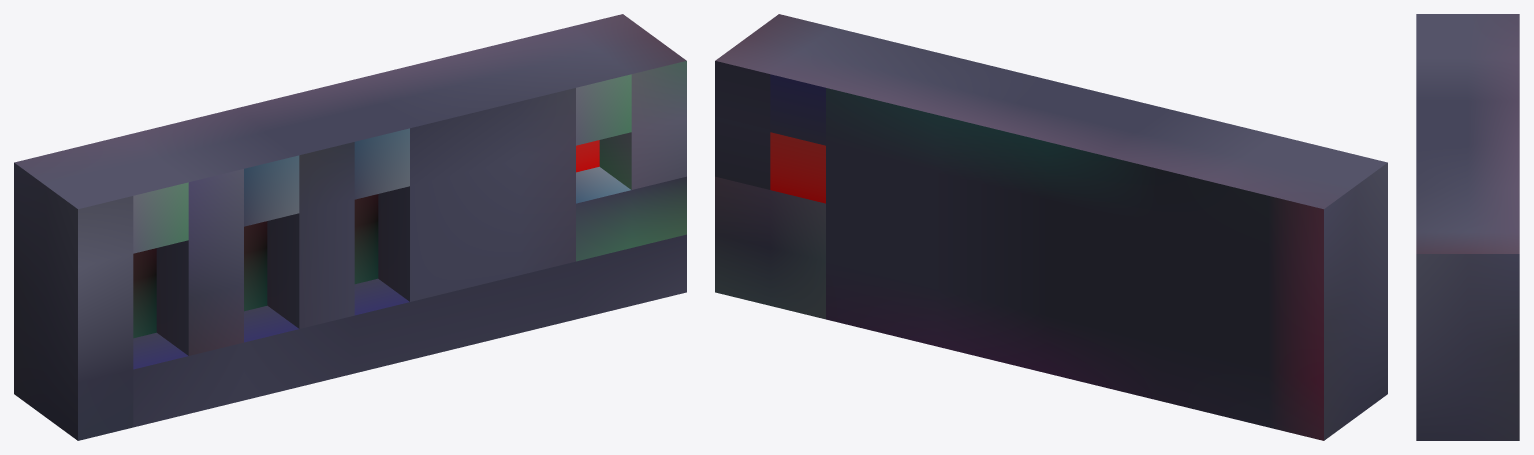
File: Device_C_00.fbx
The picture shows the model from 3 angles, left to right: view 1: azimuth 30°, elevation 25°; view 2: azimuth 150°, elevation 25°; view 3: azimuth 270°, elevation 25°; orthographic projection. The views are drawn at different scales.
Visible parts, largest first — view 1: Device_C_00; view 2: Device_C_00; view 3: Device_C_00.
Part boxes in pixels (bbox=[...]): Device_C_00: bbox=[14, 14, 686, 440]; Device_C_00: bbox=[715, 14, 1387, 440]; Device_C_00: bbox=[1416, 14, 1519, 440].
Size of the model in its own units: 55 by 20 by 10.
